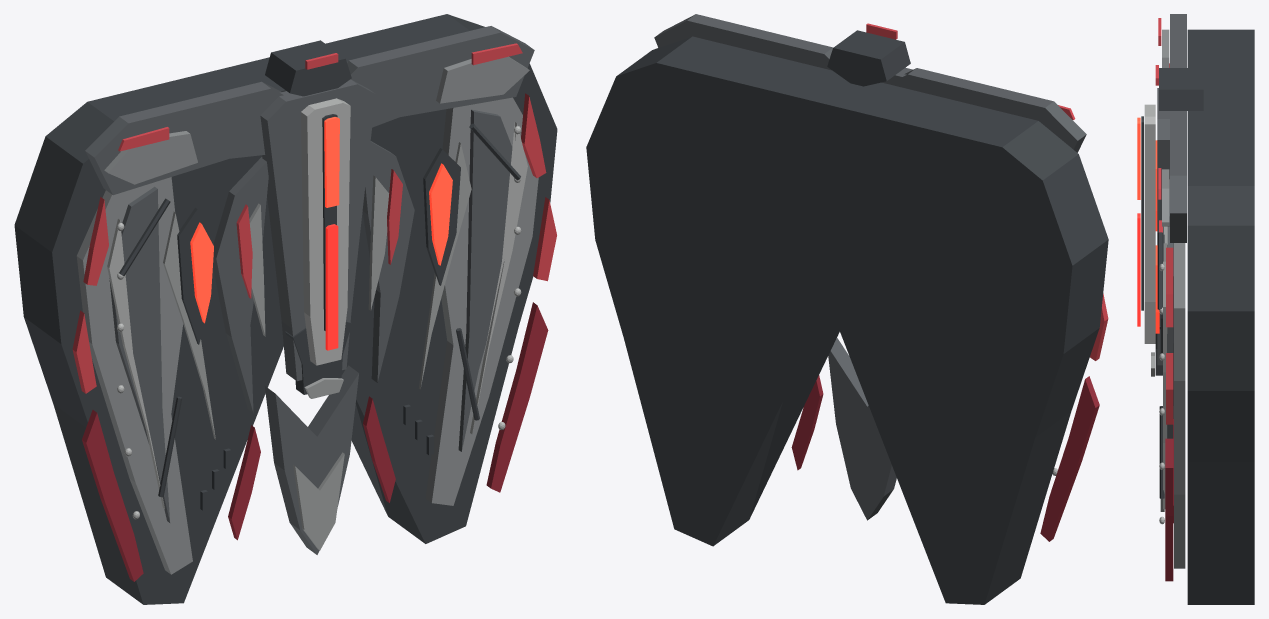
The model's file is enemy-heavy.glb.
The picture shows the model from 3 angles, left to right: view 1: azimuth 30°, elevation 25°; view 2: azimuth 150°, elevation 25°; view 3: azimuth 270°, elevation 25°; orthographic projection. The views are drawn at different scales.
Visible parts, largest first — view 1: Primary heavy silhouette, Upper cross armor, Outer gunmetal plate -1, Outer gunmetal plate 1, Central spine backing, Outer inset dark plate 1, Central silver spine, Outer inset dark plate -1, Lower center armored wedge, Inner slash plate -1, Inner slash plate 1, Outer red contour lower 1 (+27 smaller); view 2: Primary heavy silhouette, Upper cross armor, Lower center armored wedge, Top black crown, Outer red contour lower -1, Lower red armor trace 1; view 3: Primary heavy silhouette, Outer gunmetal plate 1, Upper cross armor, Central silver spine, Top black crown, Outer red contour lower 1, Central spine backing, Steel slash outer 1, Outer red contour upper 1, Central groove, Outer red contour middle 1, Shoulder seam 1 (+10 smaller).
Boxes of the visible parts, x1,y1,x2,y2 form: Primary heavy silhouette: (14, 14, 557, 604); Upper cross armor: (85, 26, 534, 195); Outer gunmetal plate -1: (76, 177, 192, 574); Outer gunmetal plate 1: (425, 97, 538, 505); Central spine backing: (260, 79, 375, 381); Outer inset dark plate 1: (458, 109, 512, 451); Central silver spine: (301, 98, 350, 365); Outer inset dark plate -1: (109, 186, 170, 522); Lower center armored wedge: (264, 365, 358, 554); Inner slash plate -1: (213, 157, 268, 412); Inner slash plate 1: (362, 141, 414, 382); Outer red contour lower 1: (486, 302, 548, 492); Primary heavy silhouette: (586, 36, 1108, 604); Upper cross armor: (654, 14, 1086, 152); Lower center armored wedge: (828, 338, 896, 520); Top black crown: (827, 30, 910, 86); Outer red contour lower -1: (1040, 376, 1099, 541); Lower red armor trace 1: (791, 375, 823, 470); Primary heavy silhouette: (1187, 29, 1254, 604); Outer gunmetal plate 1: (1174, 243, 1185, 568); Upper cross armor: (1170, 14, 1186, 242); Central silver spine: (1144, 104, 1155, 343); Top black crown: (1159, 68, 1203, 110); Outer red contour lower 1: (1165, 438, 1173, 581); Central spine backing: (1157, 88, 1176, 365); Steel slash outer 1: (1163, 261, 1166, 509); Outer red contour upper 1: (1166, 247, 1173, 327); Central groove: (1141, 116, 1143, 310); Outer red contour middle 1: (1166, 353, 1173, 424); Shoulder seam 1: (1157, 232, 1163, 309).
Size of the model in its own units: 3.26 by 3.26 by 0.735.
